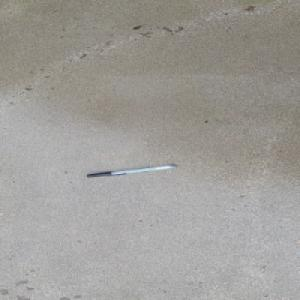Pen: (85, 163, 177, 178)
